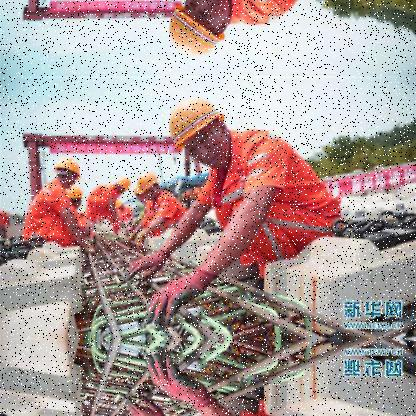Helmet: (169, 90, 249, 178), (164, 0, 238, 53), (52, 154, 89, 188), (132, 170, 164, 202), (108, 172, 136, 194), (70, 181, 86, 214), (130, 180, 146, 200)
